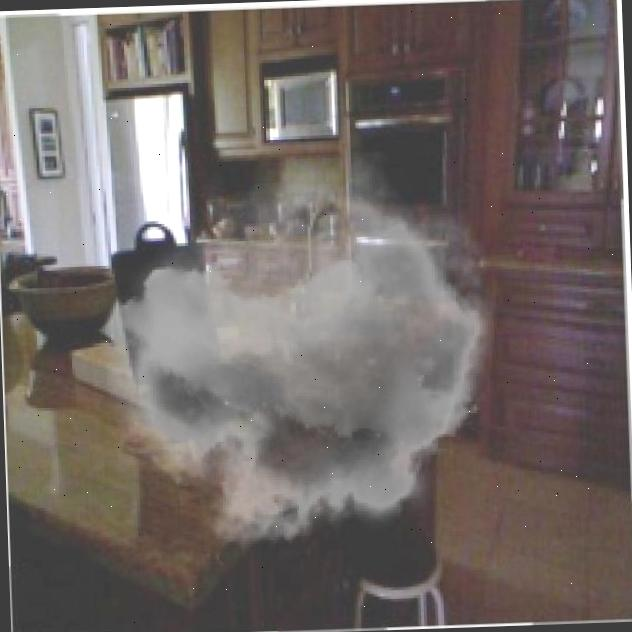smoke: (99, 145, 518, 568)
